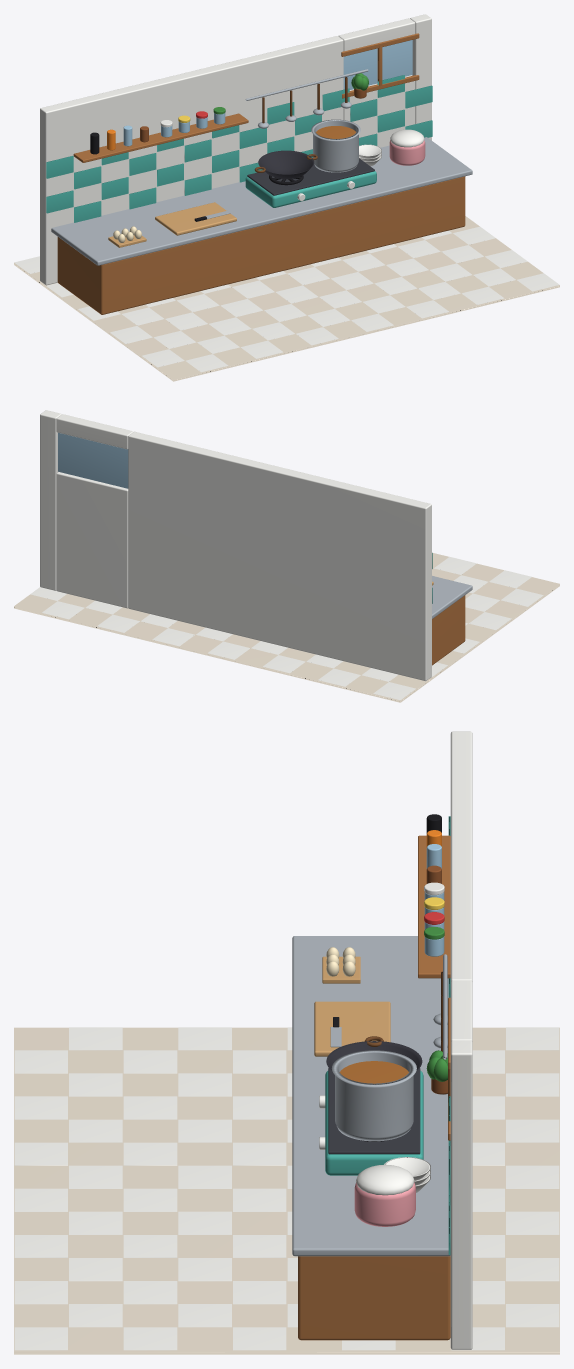
The model's file is kitchen.glb.
3 renders of one model, top to bottom at view 1: azimuth 30°, elevation 25°; view 2: azimuth 150°, elevation 25°; view 3: azimuth 270°, elevation 25°, orthographic. The views are drawn at different scales.
Parts seen in each view (by area): view 1: Floor, BackWall, Bench, BenchTop, Window, StockPot, BackWallLow, Shelf, BackWallR, Stove, ChoppingBoard, StoveTop (+19 smaller); view 2: BackWall, Floor, BackWallLow, BackWallR, Window, Bench, BackWallTop, BenchTop; view 3: Floor, BenchTop, Bench, BackWallR, BackWall, StockPot, ChoppingBoard, StoveTop, Shelf, RiceCooker, Stove, RiceLid (+4 smaller).
Part boxes in pixels (left/top/right/bottom): Floor: left=14, top=216, right=559, bottom=381; BackWall: left=40, top=36, right=343, bottom=285; Bench: left=57, top=176, right=465, bottom=314; BenchTop: left=51, top=137, right=472, bottom=265; Window: left=343, top=40, right=412, bottom=89; StockPot: left=311, top=119, right=360, bottom=172; BackWallLow: left=343, top=75, right=415, bottom=147; Shelf: left=73, top=113, right=248, bottom=162; BackWallR: left=410, top=14, right=431, bottom=140; Stove: left=245, top=171, right=376, bottom=207; ChoppingBoard: left=155, top=202, right=236, bottom=235; StoveTop: left=247, top=158, right=374, bottom=195; BackWall: left=128, top=431, right=431, bottom=681; Floor: left=14, top=552, right=559, bottom=702; BackWallLow: left=56, top=472, right=128, bottom=608; BackWallR: left=40, top=410, right=61, bottom=590; Window: left=58, top=432, right=128, bottom=488; Bench: left=432, top=595, right=465, bottom=665; BackWallTop: left=56, top=414, right=133, bottom=449; BenchTop: left=432, top=576, right=472, bottom=618; Floor: left=14, top=1027, right=559, bottom=1354; BenchTop: left=292, top=936, right=450, bottom=1256; Bench: left=298, top=1256, right=450, bottom=1340; BackWallR: left=450, top=1040, right=472, bottom=1349; BackWall: left=450, top=731, right=472, bottom=982; StockPot: left=331, top=1050, right=416, bottom=1141; ChoppingBoard: left=314, top=1001, right=390, bottom=1056; StoveTop: left=328, top=1068, right=420, bottom=1154; Shelf: left=418, top=835, right=450, bottom=978; RiceCooker: left=354, top=1182, right=415, bottom=1226; Stove: left=325, top=1070, right=423, bottom=1175; RiceLid: left=356, top=1164, right=414, bottom=1195.
Bounding box in the file's own units: 7 × 3.04 × 5.
